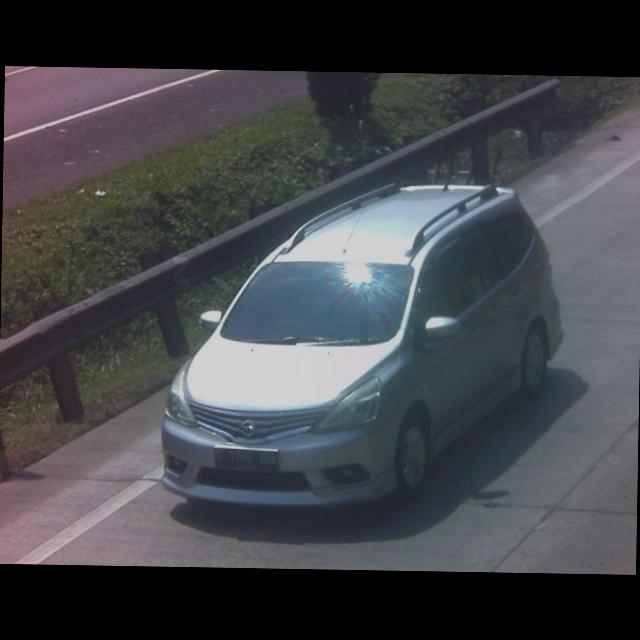plate: (212, 444, 279, 473)
